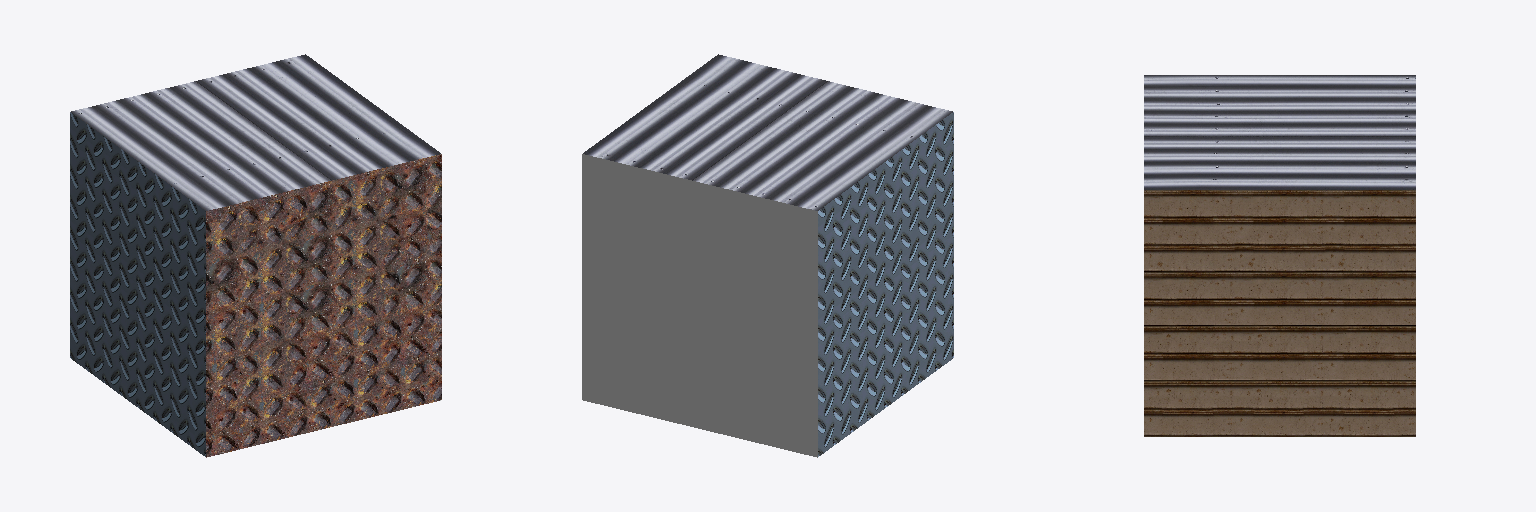
3 views of the same model, side by side, from view 1: azimuth 30°, elevation 25°; view 2: azimuth 150°, elevation 25°; view 3: azimuth 270°, elevation 25° (orthographic).
Parts seen in each view (by area): view 1: Cube.005_Cube.007, Cube.004_Cube.006, Cube.003_Cube.005; view 2: Cube.002_Cube.004, Cube.004_Cube.006, Cube.003_Cube.005; view 3: Cube.001_Cube.003, Cube.003_Cube.005.
Part boxes in pixels (left/top/right/bottom): Cube.005_Cube.007: left=206, top=154, right=441, bottom=457; Cube.004_Cube.006: left=70, top=112, right=205, bottom=456; Cube.003_Cube.005: left=71, top=54, right=440, bottom=210; Cube.002_Cube.004: left=582, top=154, right=817, bottom=457; Cube.004_Cube.006: left=818, top=112, right=953, bottom=456; Cube.003_Cube.005: left=583, top=54, right=952, bottom=210; Cube.001_Cube.003: left=1144, top=190, right=1415, bottom=436; Cube.003_Cube.005: left=1144, top=75, right=1415, bottom=189.
Bounding box in the file's own units: 2 × 2 × 2.
Materials: 6 (5 with a texture image).